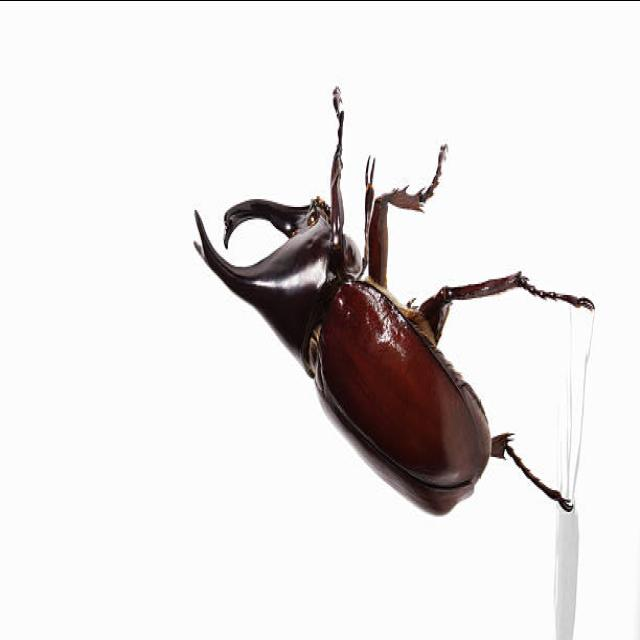Rhino-beetle: (202, 66, 602, 594)
